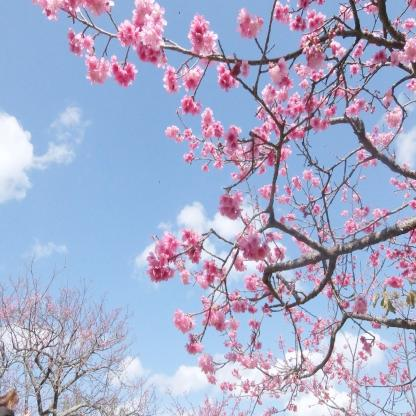KanhiSakura: (31, 0, 416, 416), (0, 244, 162, 416), (160, 385, 286, 416)
